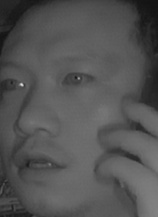eye: (61, 68, 94, 89), (1, 73, 27, 93)
mouth: (12, 143, 69, 184)
